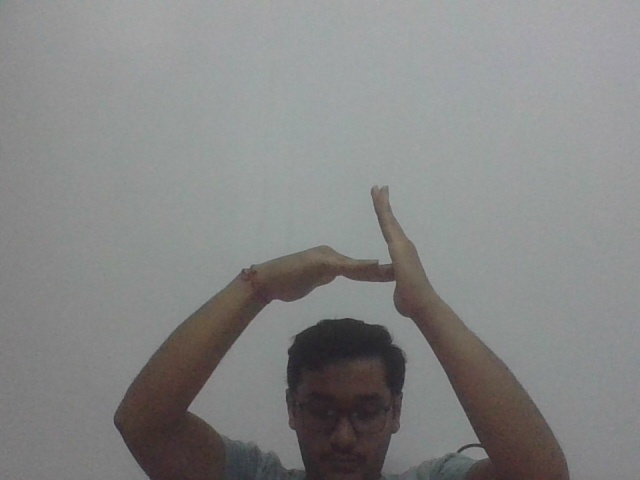Z: (269, 174, 446, 326)
